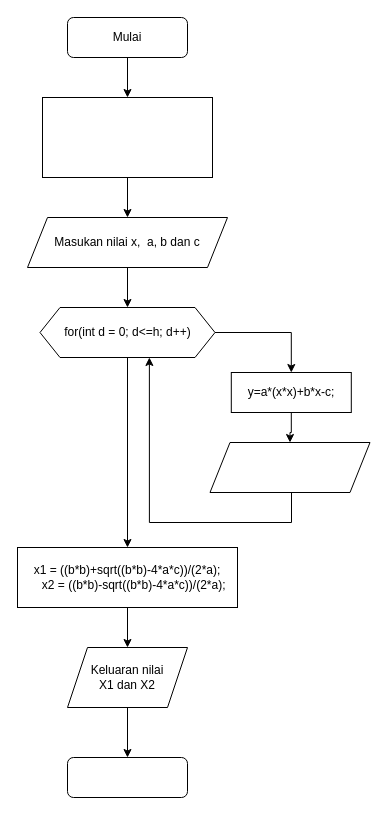
Image size: 388x815. Some labels were removed from this diagram. The shapes that lost their labels are listed below. From the top down, each one's box as (x1, y1, x2, y2) in pixels, then its label:
(42, 96, 212, 178): int i = 0; int x = 0; int a,b,c,x1,x2 = 0; int data[i] = {};
(209, 442, 370, 492): keluaran nilai Y
(66, 756, 188, 798): Selesai
